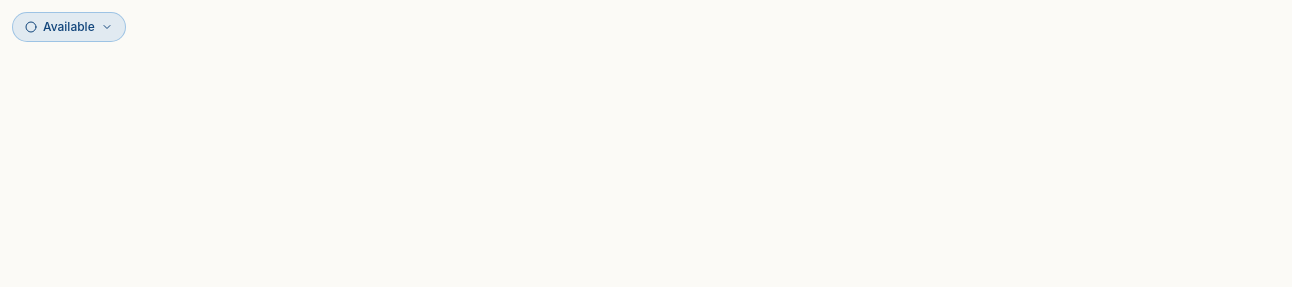
Test: AvailabilitySelector › renders every status option and Clear status when open
The image size is (1292, 287).
Click the button with aria-label "Set availability status" at (69, 27), box left=12, top=12, right=126, bottom=42
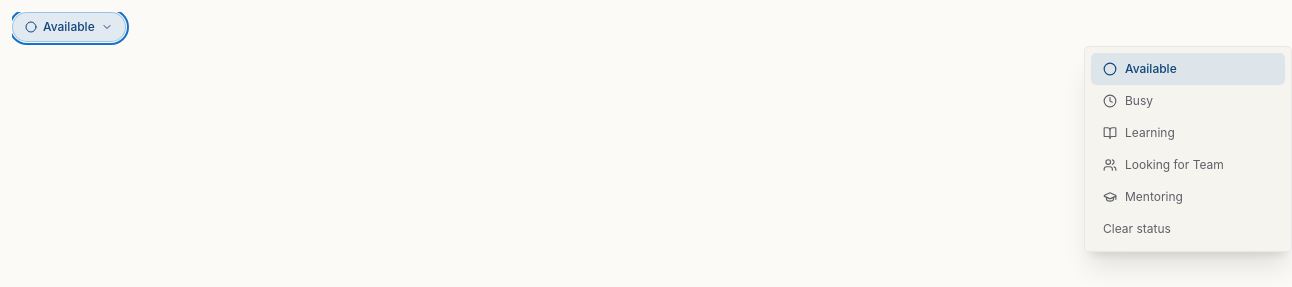
expect the option "Available" is shown: met, box left=1091, top=53, right=1285, bottom=85
expect the option "Busy" is shown: met, box left=1091, top=85, right=1285, bottom=117
expect the option "Learning" is shown: met, box left=1091, top=117, right=1285, bottom=149
